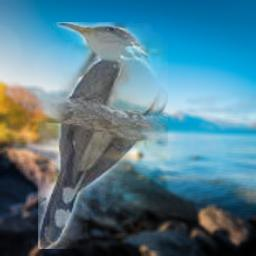Cuckoo: (38, 22, 168, 249)
